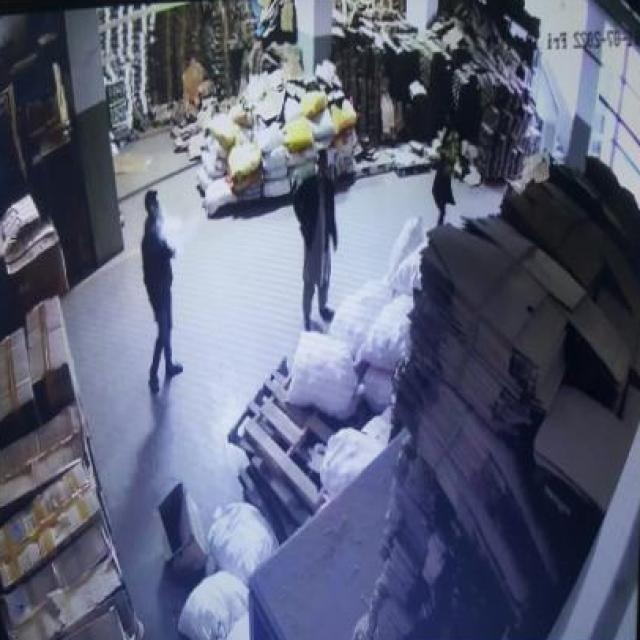fire: (148, 187, 197, 258)
